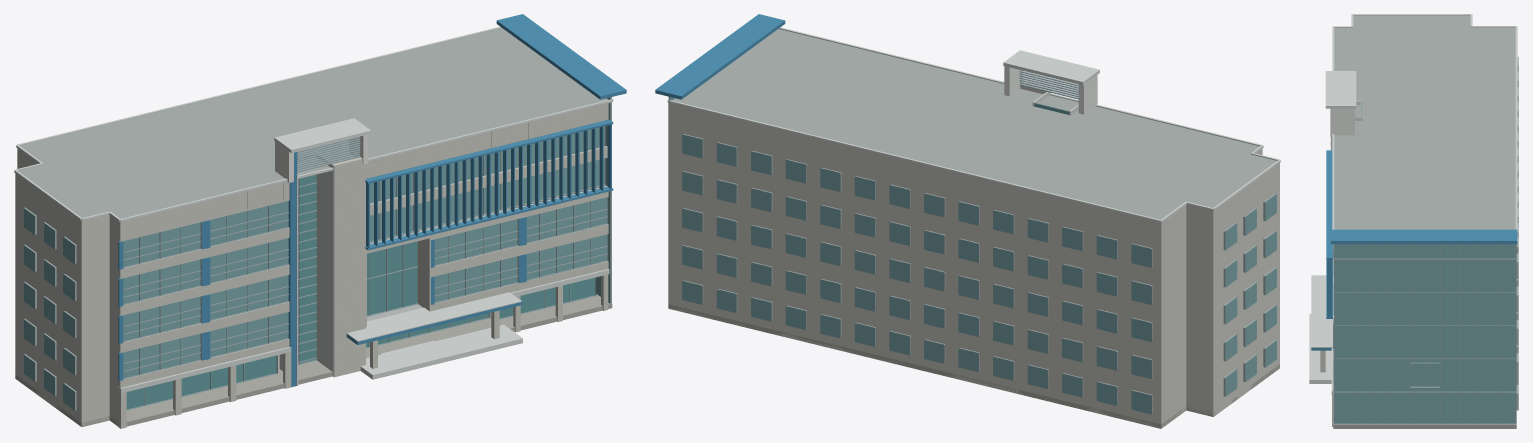
3 renders of one model, left to right at view 1: azimuth 30°, elevation 25°; view 2: azimuth 150°, elevation 25°; view 3: azimuth 270°, elevation 25°, orthographic. The views are drawn at different scales.
Parts seen in each view (by area): view 1: venture-center__roofSlab, venture-center__leftWingGlass, venture-center__frame, venture-center__estimatedRearSide_5, venture-center__twoStoreyBlueFins, venture-center__rightLowerGlass, venture-center__leftWhiteSpandrels, venture-center__centralWhiteCore, venture-center__upperLouverBackingGlass, venture-center__estimatedRearSide_4, venture-center__exactFoundation, venture-center__centralDeepReveals (+32 smaller); view 2: venture-center__estimatedRearSide_0, venture-center__roofSlab, venture-center__estimatedRearSide_0Glass, venture-center__estimatedRearSide_5, venture-center__estimatedRearSide_0Frames, venture-center__estimatedRearSide_6, venture-center__estimatedRearSide_7, venture-center__roofCoping, venture-center__estimatedRearSide_5Glass, venture-center__eastBlueCap, venture-center__estimatedRearSide_0Reveals, venture-center__exactFoundation (+5 smaller); view 3: venture-center__roofSlab, venture-center__eastGlassSpine, venture-center__frame, venture-center__eastBlueCap, venture-center__roofCoping, venture-center__entryCanopyTop, venture-center__topCageProjectingCap, venture-center__exactFoundation, venture-center__blueScreenOuterRails, venture-center__entryPorchFloor, venture-center__sideConnectionGlass, venture-center__topCageSides (+4 smaller).
Part boxes in pixels (left/top/right/bottom): venture-center__roofSlab: left=18, top=28, right=611, bottom=222; venture-center__leftWingGlass: left=123, top=201, right=288, bottom=378; venture-center__frame: left=119, top=97, right=611, bottom=410; venture-center__estimatedRearSide_5: left=15, top=173, right=81, bottom=426; venture-center__twoStoreyBlueFins: left=366, top=122, right=611, bottom=247; venture-center__rightLowerGlass: left=434, top=197, right=607, bottom=302; venture-center__leftWhiteSpandrels: left=120, top=198, right=289, bottom=387; venture-center__centralWhiteCore: left=333, top=157, right=365, bottom=376; venture-center__upperLouverBackingGlass: left=366, top=120, right=604, bottom=241; venture-center__estimatedRearSide_4: left=81, top=215, right=109, bottom=426; venture-center__exactFoundation: left=15, top=294, right=612, bottom=426; venture-center__centralDeepReveals: left=279, top=152, right=334, bottom=385; venture-center__estimatedRearSide_0: left=668, top=103, right=1161, bottom=427; venture-center__roofSlab: left=670, top=29, right=1276, bottom=223; venture-center__estimatedRearSide_0Glass: left=682, top=135, right=1151, bottom=413; venture-center__estimatedRearSide_5: left=1213, top=163, right=1279, bottom=416; venture-center__estimatedRearSide_0Frames: left=682, top=134, right=1152, bottom=414; venture-center__estimatedRearSide_6: left=1186, top=205, right=1213, bottom=416; venture-center__estimatedRearSide_7: left=1161, top=205, right=1186, bottom=428; venture-center__roofCoping: left=667, top=27, right=1280, bottom=222; venture-center__estimatedRearSide_5Glass: left=1225, top=194, right=1276, bottom=396; venture-center__eastBlueCap: left=655, top=14, right=785, bottom=99; venture-center__estimatedRearSide_0Reveals: left=683, top=134, right=1152, bottom=412; venture-center__exactFoundation: left=668, top=304, right=1279, bottom=428; venture-center__roofSlab: left=1333, top=15, right=1516, bottom=244; venture-center__eastGlassSpine: left=1334, top=244, right=1515, bottom=423; venture-center__frame: left=1334, top=102, right=1516, bottom=424; venture-center__eastBlueCap: left=1331, top=229, right=1517, bottom=244; venture-center__roofCoping: left=1332, top=14, right=1517, bottom=243; venture-center__entryCanopyTop: left=1311, top=275, right=1333, bottom=347; venture-center__topCageProjectingCap: left=1325, top=71, right=1356, bottom=108; venture-center__exactFoundation: left=1333, top=422, right=1516, bottom=428; venture-center__blueScreenOuterRails: left=1326, top=150, right=1332, bottom=318; venture-center__entryPorchFloor: left=1309, top=314, right=1331, bottom=383; venture-center__sideConnectionGlass: left=1410, top=363, right=1439, bottom=386; venture-center__topCageSides: left=1330, top=108, right=1354, bottom=136.
Size of the model in its own units: 61.92 by 26.6 by 23.42.
Materials: 12 (1 with a texture image).
